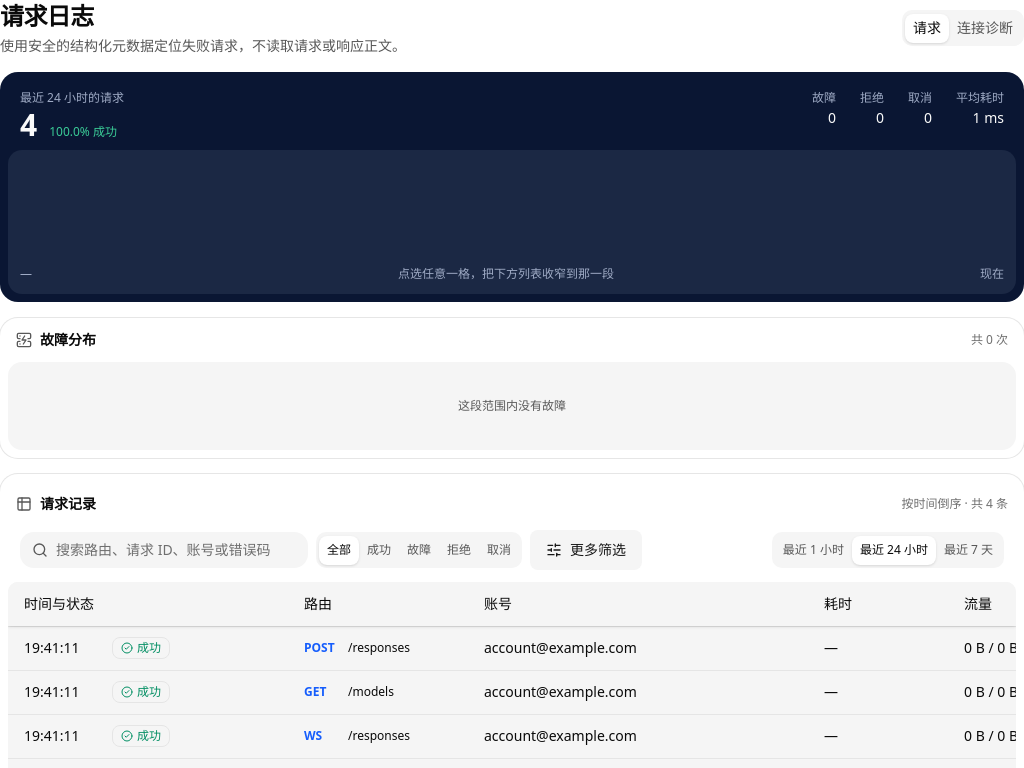
Test: RequestLogsPage › shows the real request protocol beside each route
Check: the element titled "POST /responses" is shown, box [304,639,410,656]
Check: the element titled "GET /models" is shown, box [304,683,394,700]
Click the button with aria-label "查看请求 http-response" at (512, 648), box [8,626,1016,670]
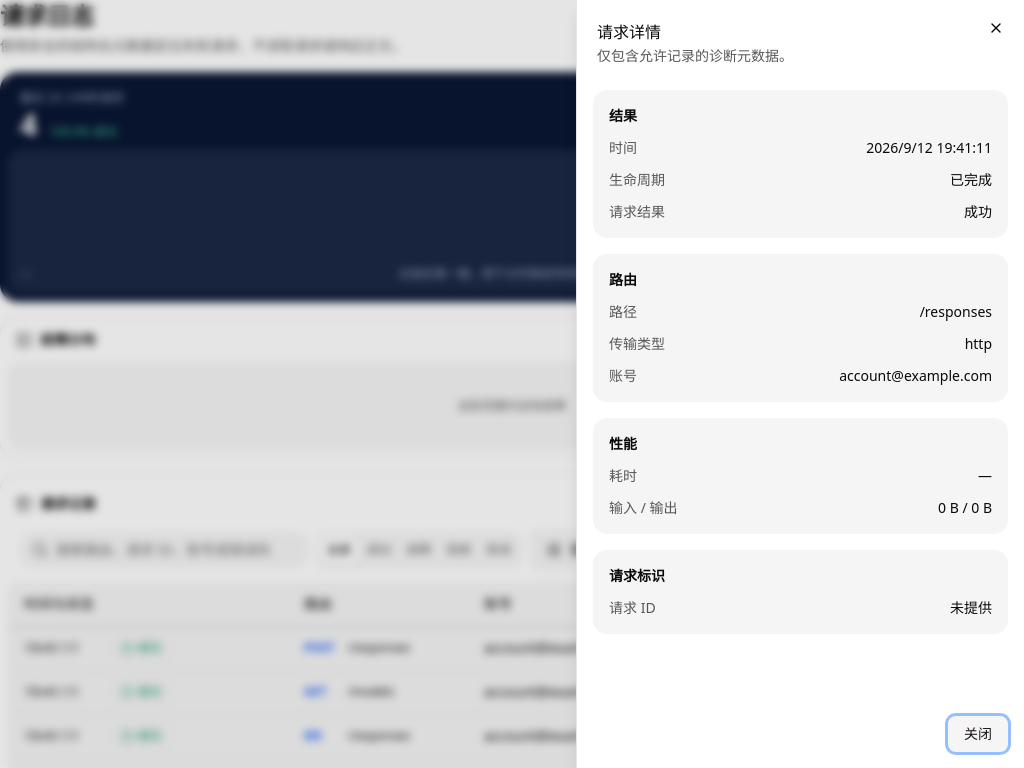
Check: the heading "请求详情" is shown, box [597,21,661,43]
